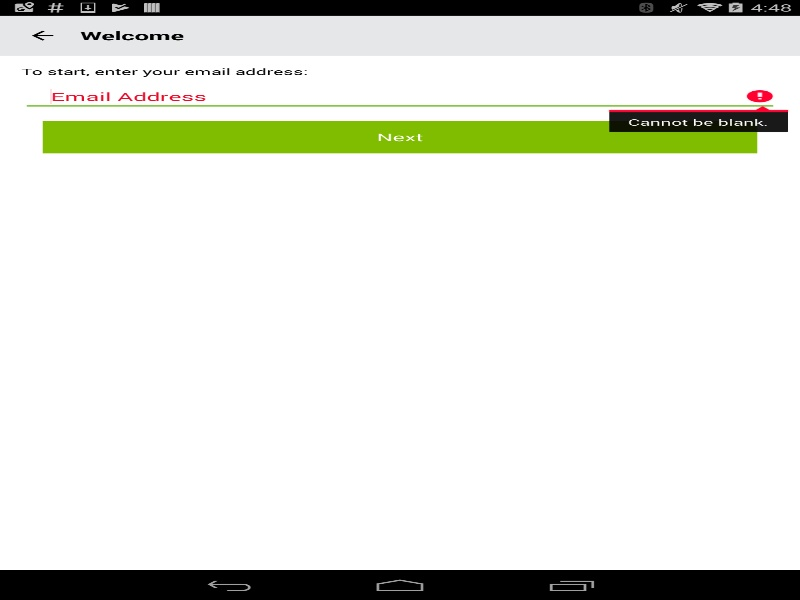Button: (42, 120, 757, 153), (0, 18, 74, 53)
Input: (21, 82, 778, 110)
